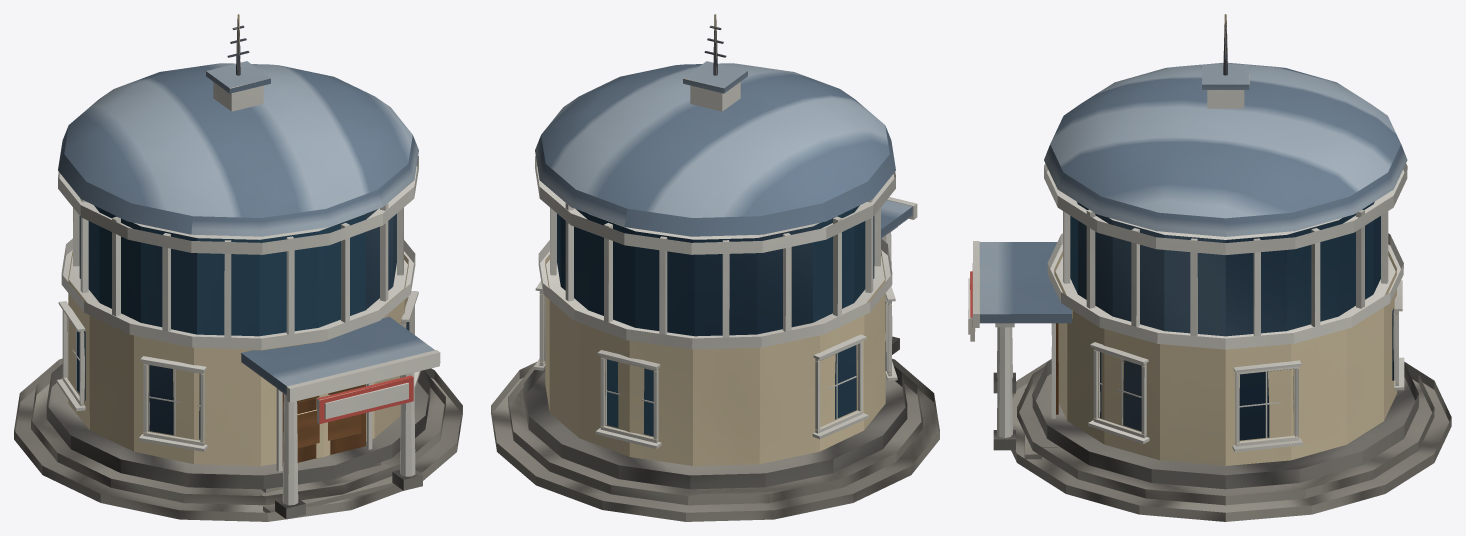
File: Env_Building_PokeLab_LOD1.fbx
The picture shows the model from 3 angles, left to right: view 1: azimuth 30°, elevation 25°; view 2: azimuth 150°, elevation 25°; view 3: azimuth 270°, elevation 25°; orthographic projection.
Visible parts, largest first — view 1: Env_Building_PokeLab_LOD1; view 2: Env_Building_PokeLab_LOD1; view 3: Env_Building_PokeLab_LOD1.
Boxes of the visible parts, <box> form: Env_Building_PokeLab_LOD1: <box>14,14,462,521</box>; Env_Building_PokeLab_LOD1: <box>491,14,939,521</box>; Env_Building_PokeLab_LOD1: <box>968,14,1451,521</box>.
Bounding box in the file's own units: 870 × 931 × 876.
